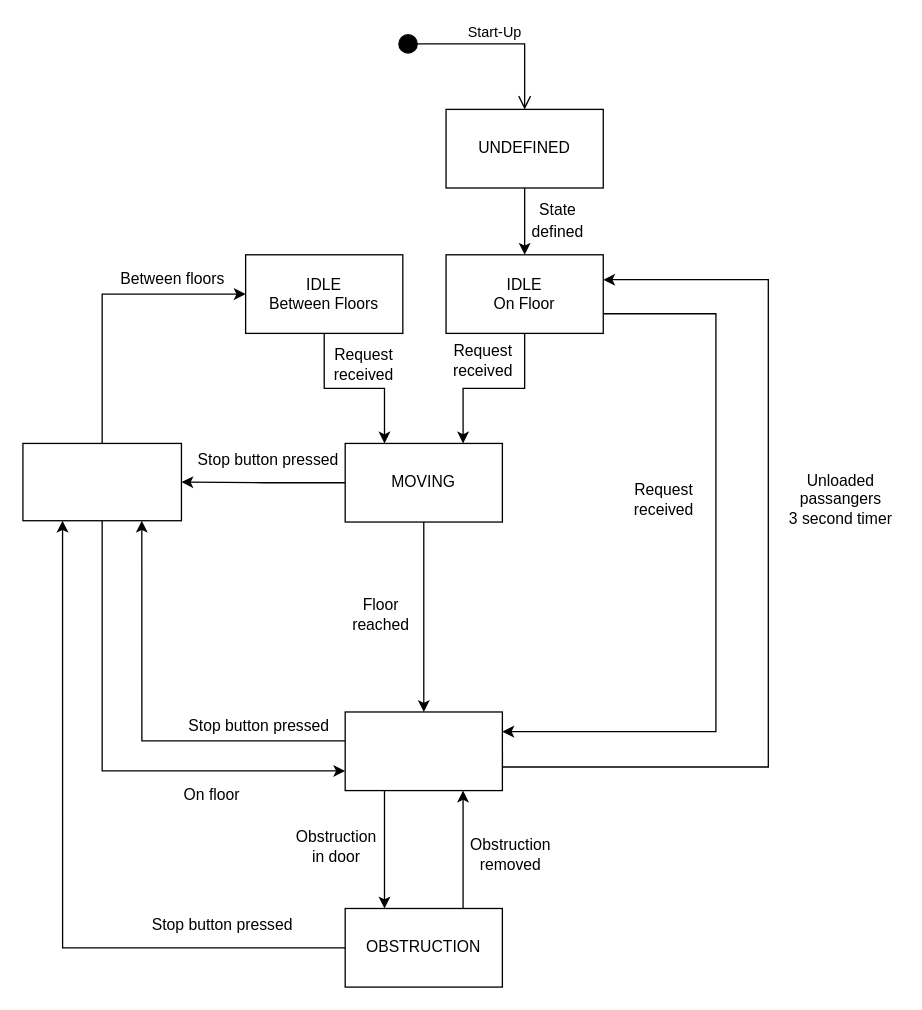
The diagram is 922 pixels wide and 1010 high, and some of its shapes have lost their labels. The shapes that lost their labels are listed below. From the top down, each one's box as (x1, y1, x2, y2) in pixels, then its label:
(22, 442, 181, 521): STOP BUTTON
(344, 711, 502, 791): DOOR OPEN
